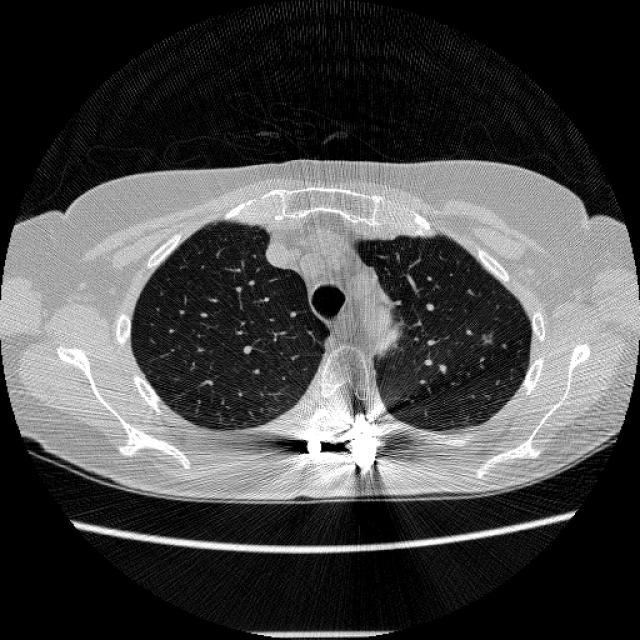nodule: (474, 325, 498, 350)
